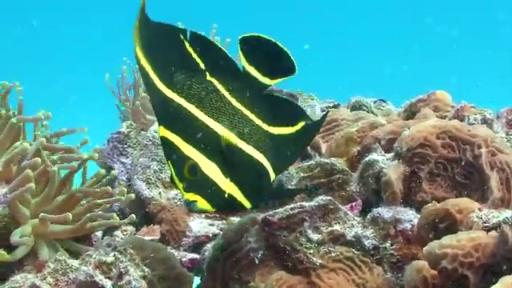Fish: (135, 1, 327, 211)
